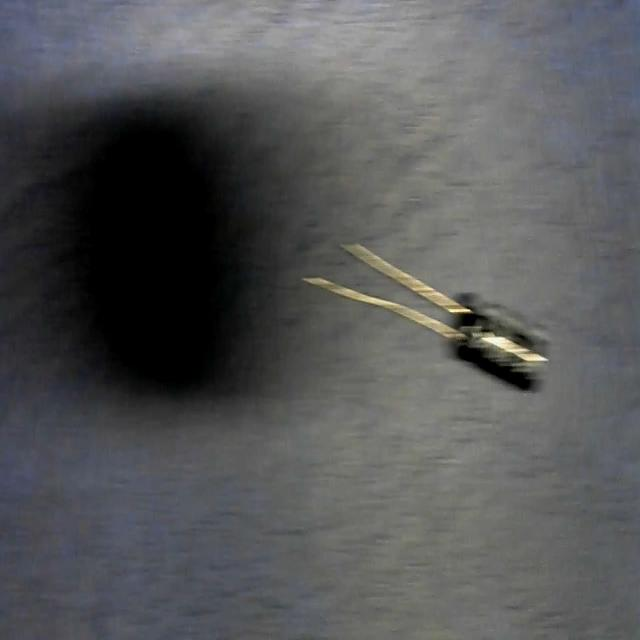capacitor: (298, 244, 550, 393)
